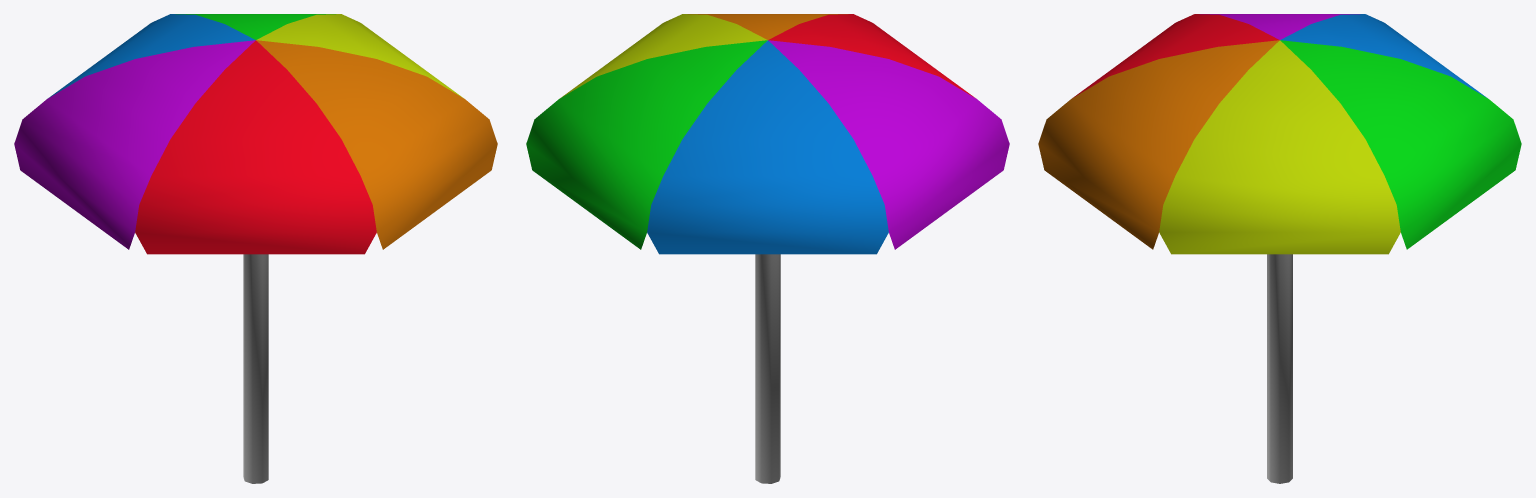
File: Umbrella_Smooth_4.fbx
3 renders of one model, left to right at view 1: azimuth 30°, elevation 25°; view 2: azimuth 150°, elevation 25°; view 3: azimuth 270°, elevation 25°, orthographic.
Parts seen in each view (by area): view 1: Top, Base; view 2: Top, Base; view 3: Top, Base.
Boxes of the visible parts, <box> form: Top: <box>14,14,497,254</box>; Base: <box>243,254,268,483</box>; Top: <box>526,14,1009,254</box>; Base: <box>755,254,780,483</box>; Top: <box>1038,14,1521,254</box>; Base: <box>1267,254,1292,483</box>.
Bounding box in the file's own units: 173 × 200 × 200.
